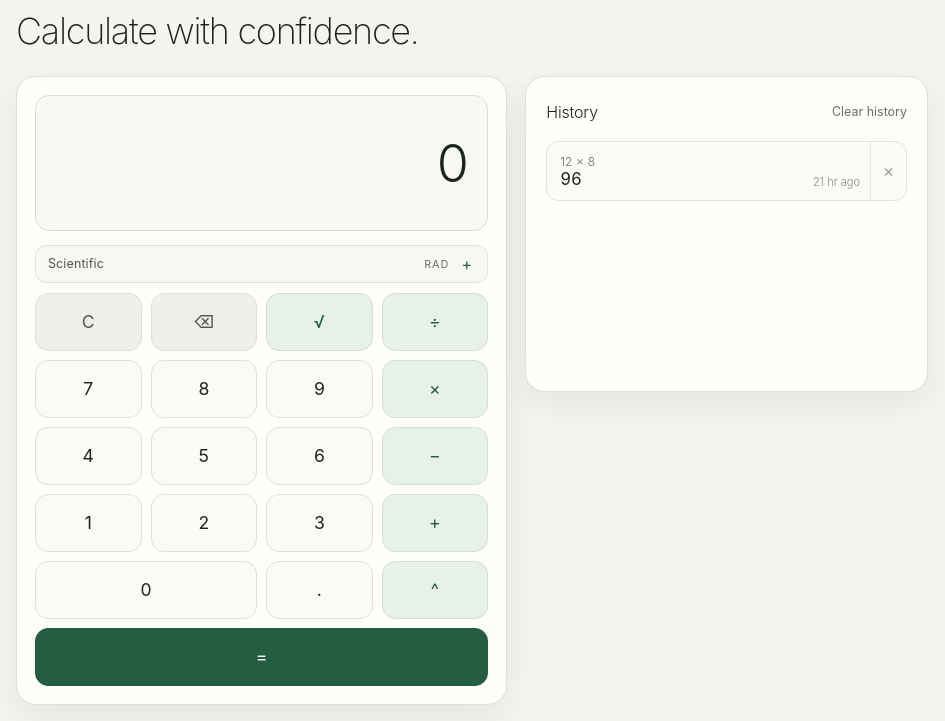
Test case: history › clears all history
Click the button "Clear history" at coordinates (870, 112), box [832,99,907,124]
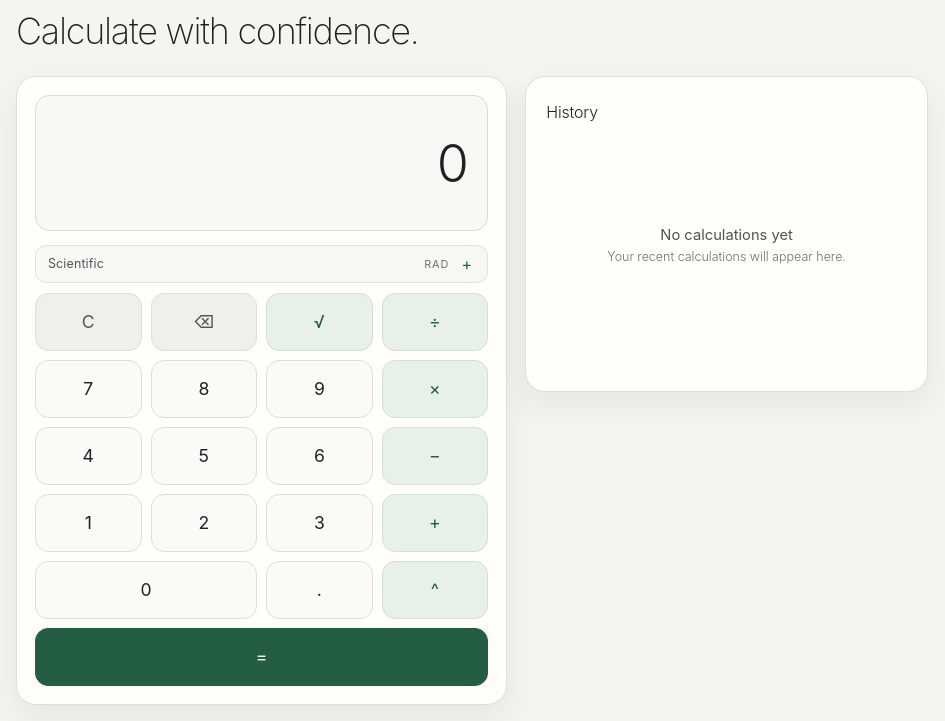
Expected: the text "No calculations yet" is shown, [660,226,793,244]
